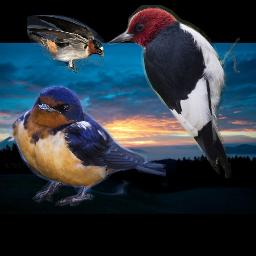Swallow: (7, 84, 166, 206), (27, 15, 104, 73)
Woodpecker: (102, 5, 240, 178)
